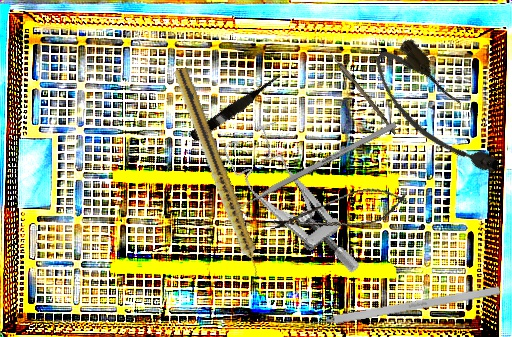Cannula: (363, 32, 510, 195)
Handpiece: (169, 66, 266, 281)
Hook Surgical: (292, 285, 502, 332)
Micro Scissor: (263, 180, 414, 245), (188, 69, 288, 145)
Pusher: (222, 120, 398, 219)
Speculum: (220, 111, 362, 300)
Surgical Spoon: (317, 39, 399, 135)
